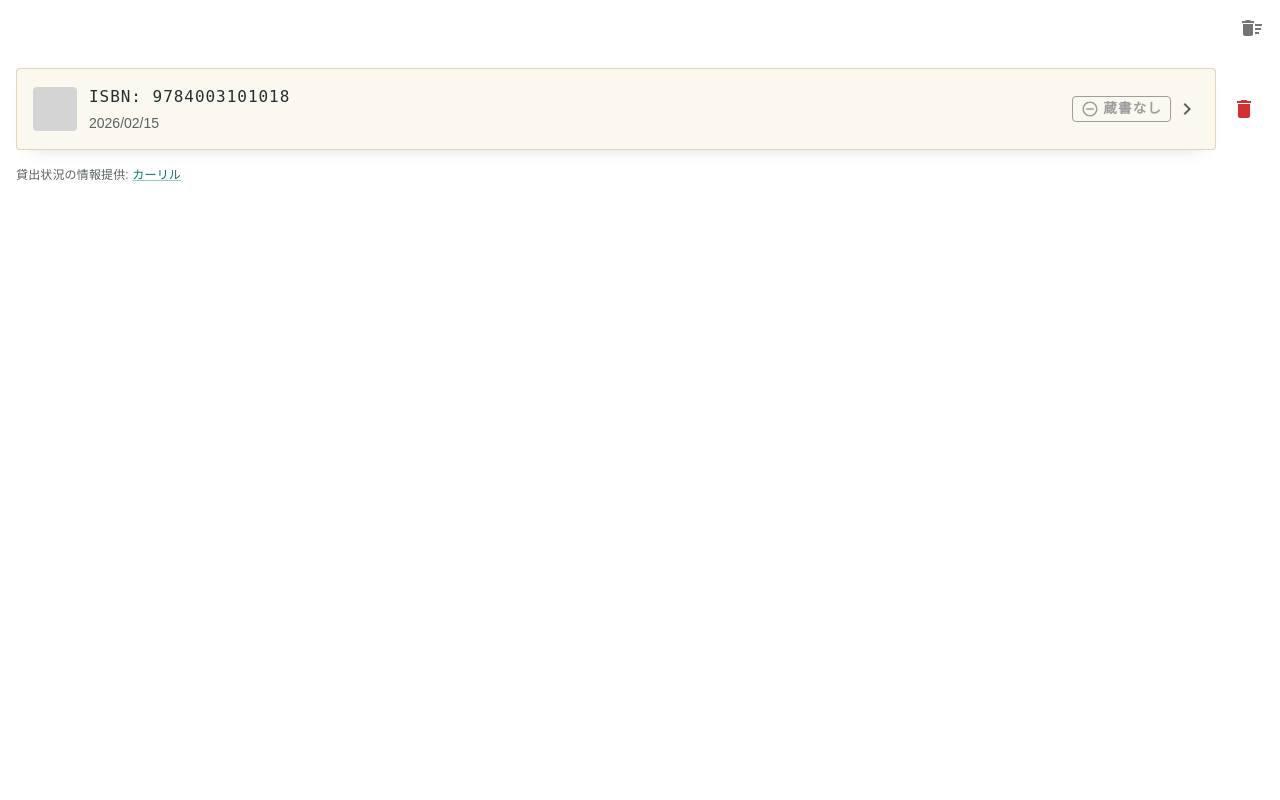
Test: SearchHistoryPage › delete all shows confirmation dialog
Expected: the text "ISBN: 9784003101018" is shown, [89,87,290,106]
Click the button named "全履歴を削除" at {"x": 1252, "y": 28}, box [1232,8,1272,48]
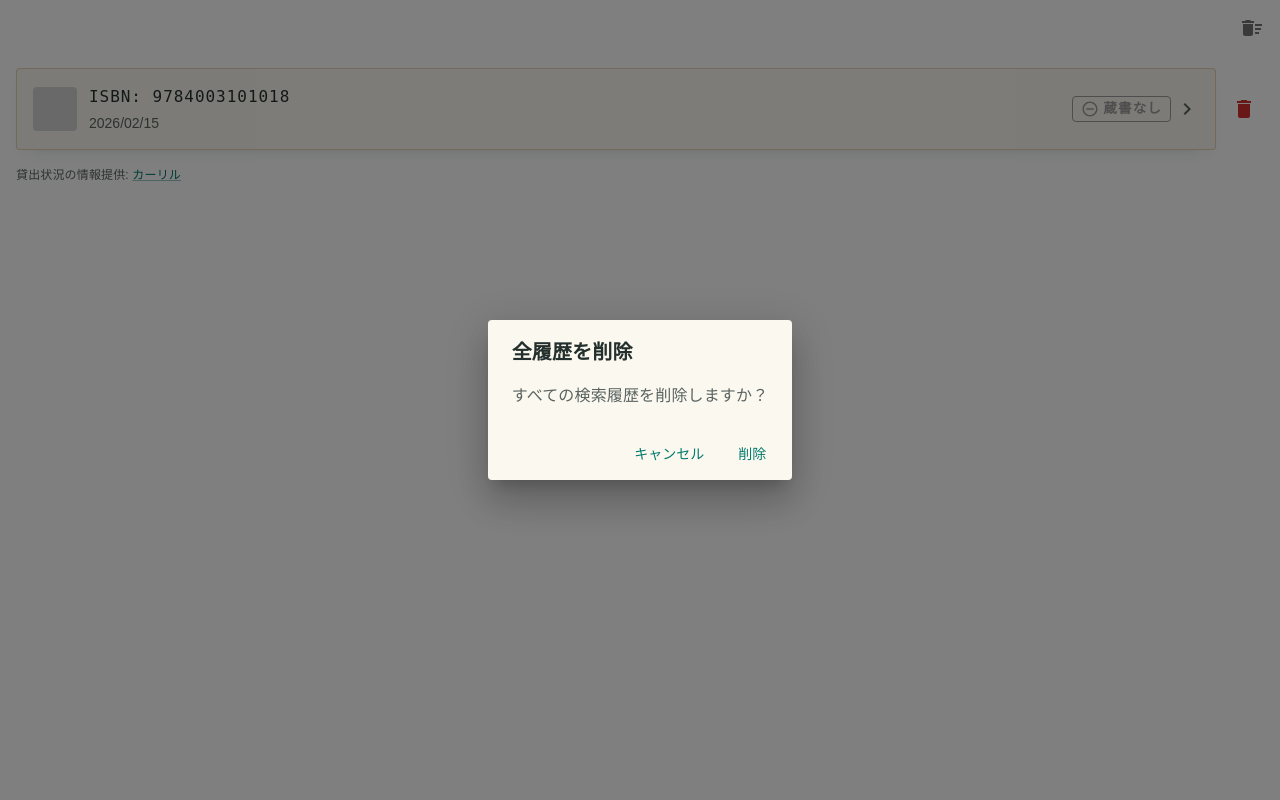
Expected: the heading "全履歴を削除" is shown, [512,341,633,363]
Expected: the button "削除" is shown, [720,436,784,472]
Expected: the button "キャンセル" is shown, [626,436,712,472]
